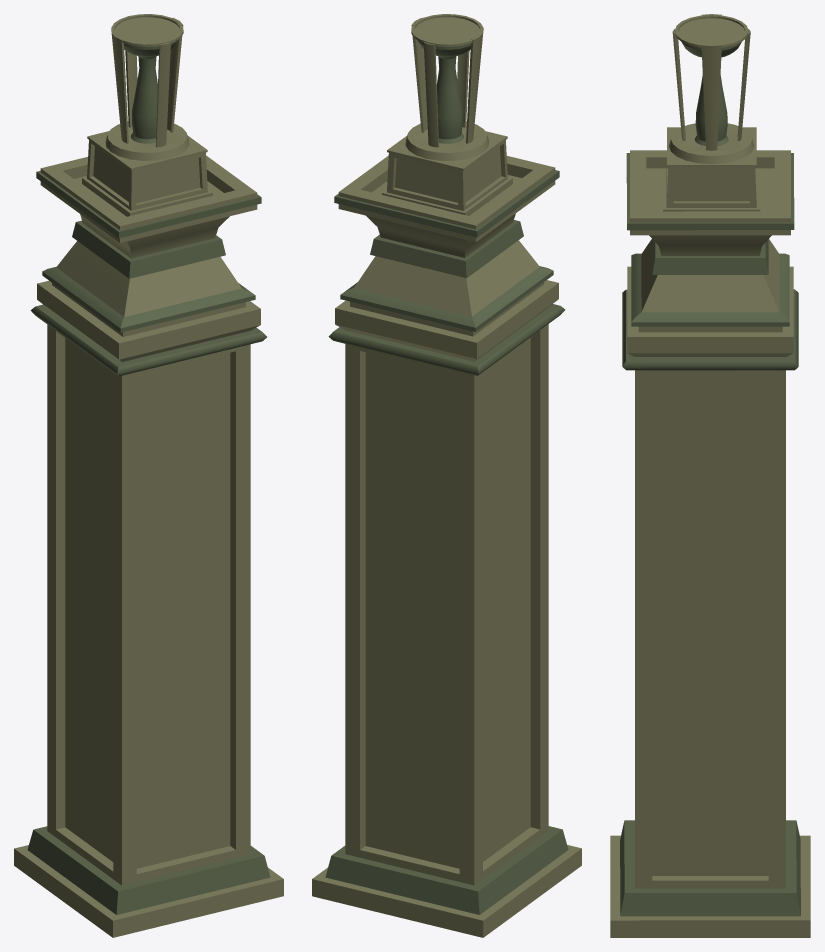
The model's file is pillar002.fbx.
3 views of the same model, side by side, from view 1: azimuth 30°, elevation 25°; view 2: azimuth 150°, elevation 25°; view 3: azimuth 270°, elevation 25° (orthographic).
Parts seen in each view (by area): view 1: pillar002; view 2: pillar002; view 3: pillar002.
Boxes of the visible parts, x1,y1,x2,y2 form: pillar002: (14, 14, 283, 937); pillar002: (312, 14, 581, 937); pillar002: (610, 14, 810, 937).
Size of the model in its own units: 1.02 by 4.86 by 1.02.
